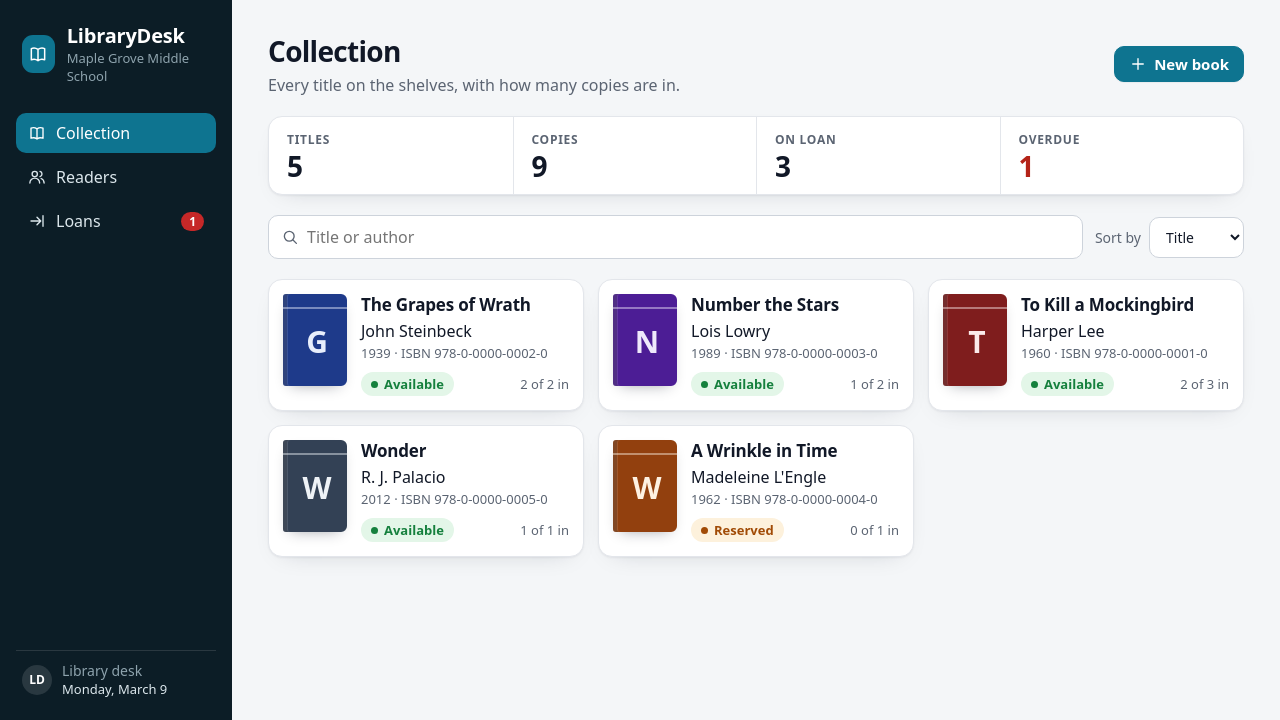
Test: the collection › says so when no book matches
Expected: the navigation bar named "Main" is shown, [16,113,216,241]
Expected: the list item with test id "book-1" is shown, [928,279,1244,411]
Type "zzz" into the search field named "Search the collection" at {"x": 688, "y": 237}, box [307,216,1070,258]
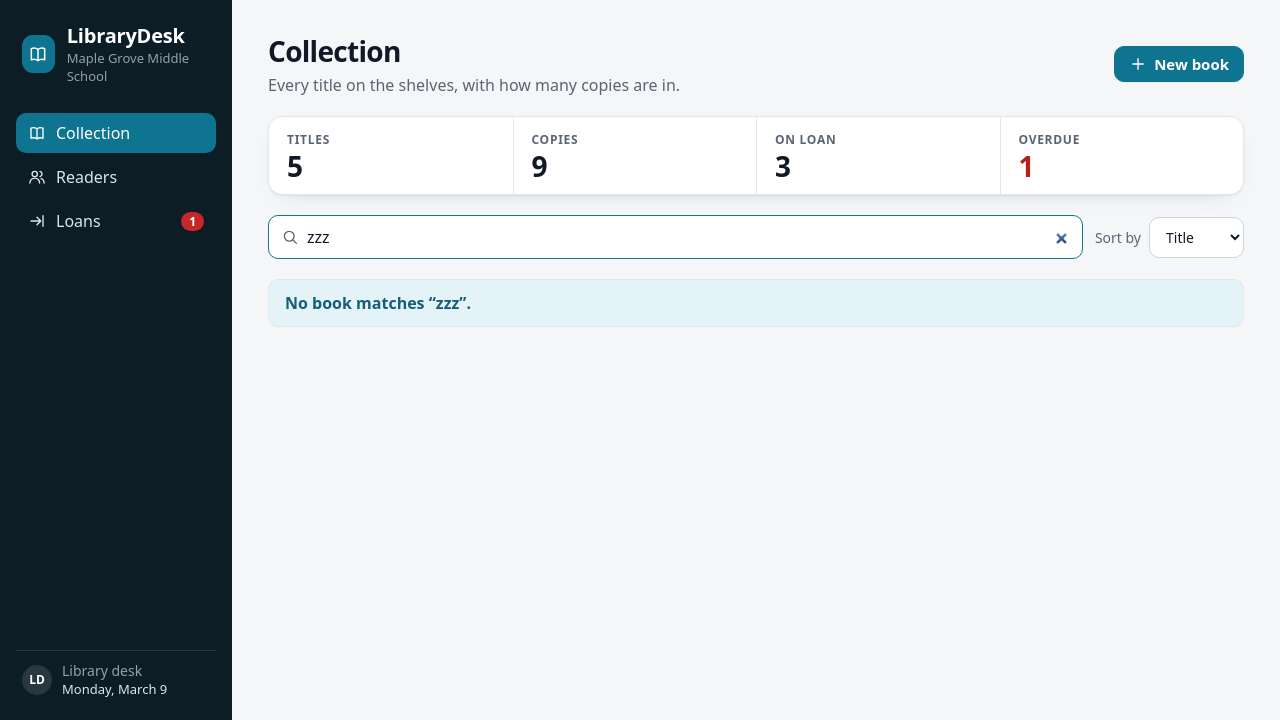
Result: the text "No book matches “zzz”." is shown at [268,279,1244,327]
